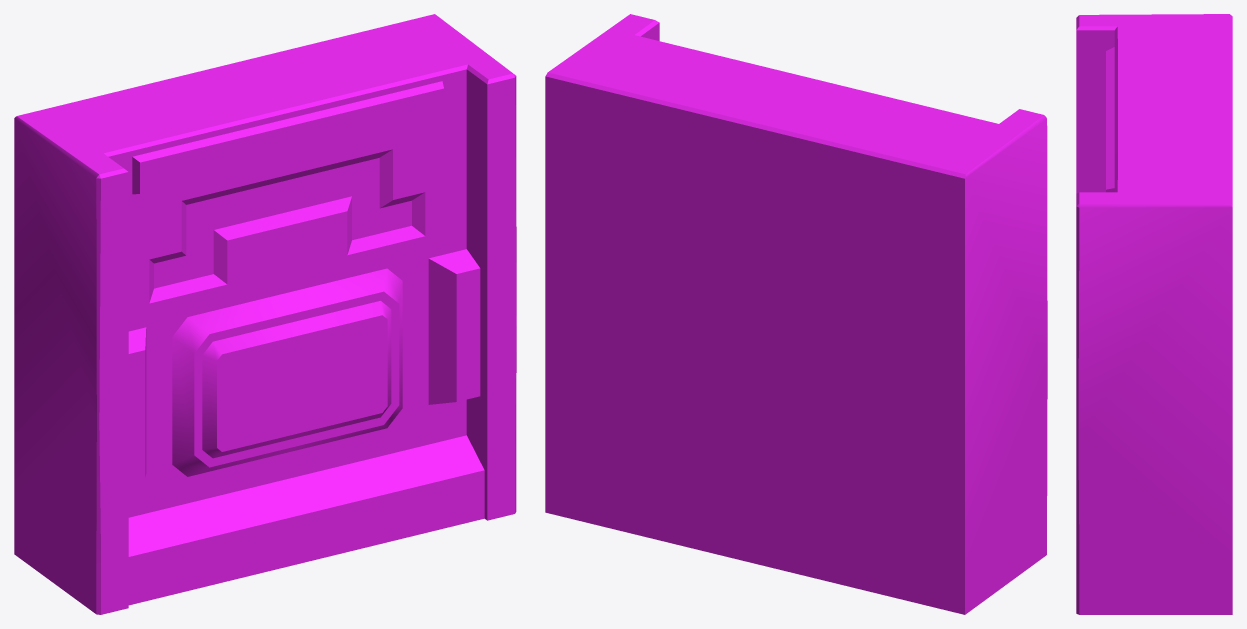
The model's file is SM_Wall_300x300.FBX.
3 renders of one model, left to right at view 1: azimuth 30°, elevation 25°; view 2: azimuth 150°, elevation 25°; view 3: azimuth 270°, elevation 25°, orthographic. The views are drawn at different scales.
Visible parts, largest first — view 1: Plane001; view 2: Plane001; view 3: Plane001.
Boxes of the visible parts, <box> form: Plane001: <box>14,14,516,614</box>; Plane001: <box>545,14,1047,614</box>; Plane001: <box>1076,14,1232,614</box>.
Size of the model in its own units: 118 by 118 by 40.82.
